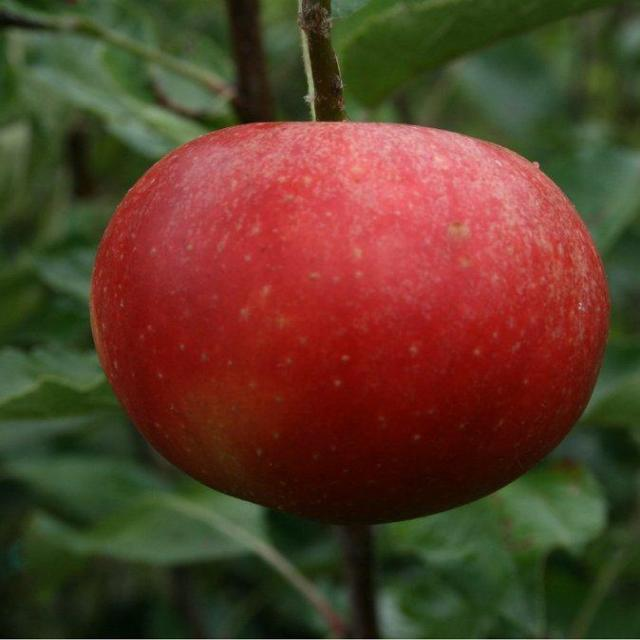Apple: (96, 111, 614, 524)
